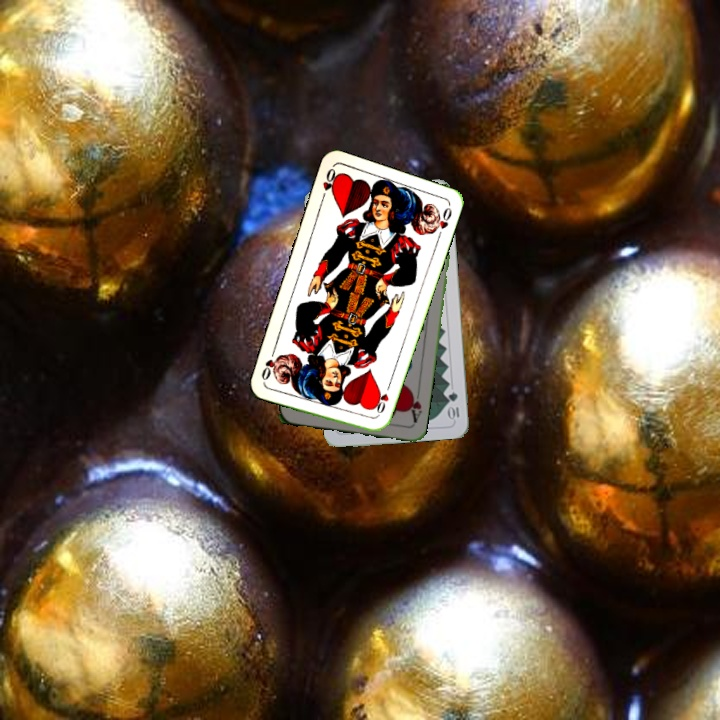G10: (445, 388, 462, 422)
HA: (404, 385, 424, 426)
HO: (369, 381, 393, 420), (317, 164, 341, 203)
